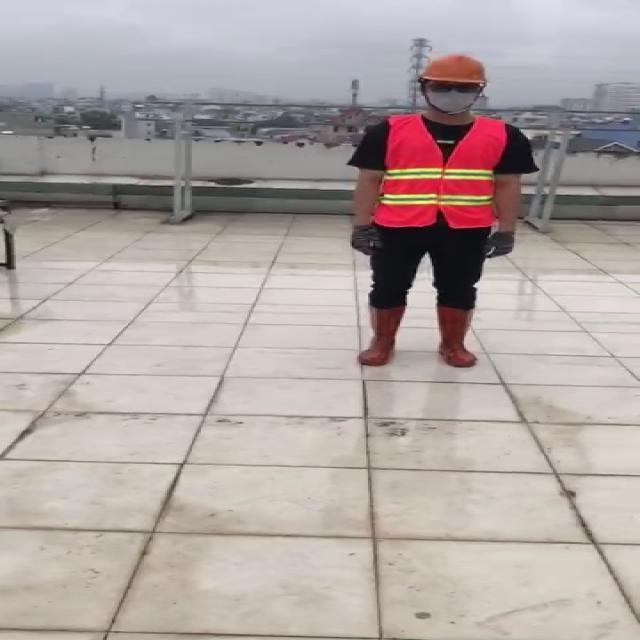gloves: (482, 226, 524, 267), (344, 221, 384, 260)
helmet: (412, 53, 492, 95)
safety_vest: (374, 109, 504, 228)
